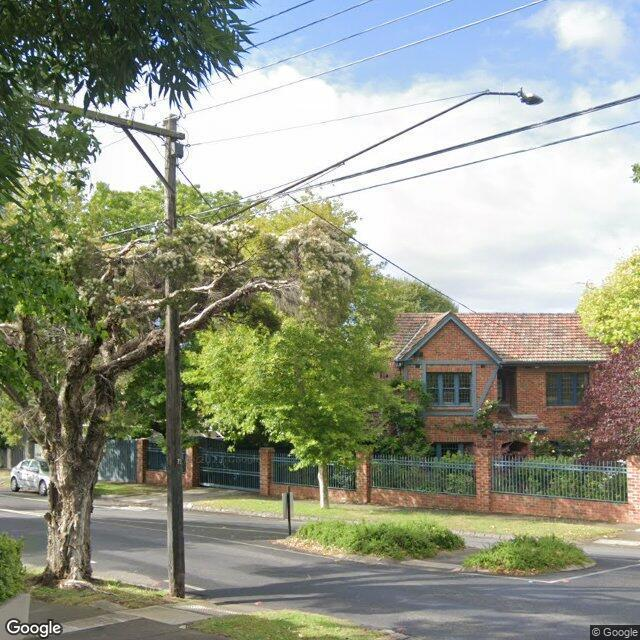crossarm: (32, 94, 186, 140)
streetlight: (213, 87, 544, 225)
timber-pole: (162, 114, 186, 598)
